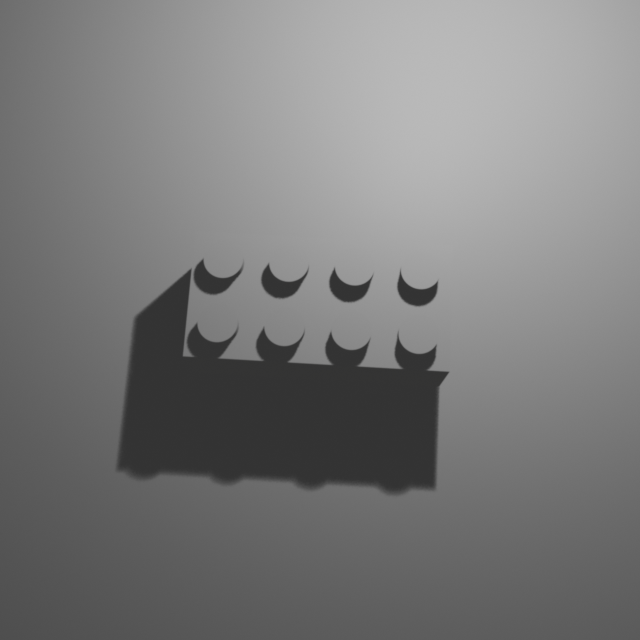lego_2x4: (181, 226, 454, 386)
